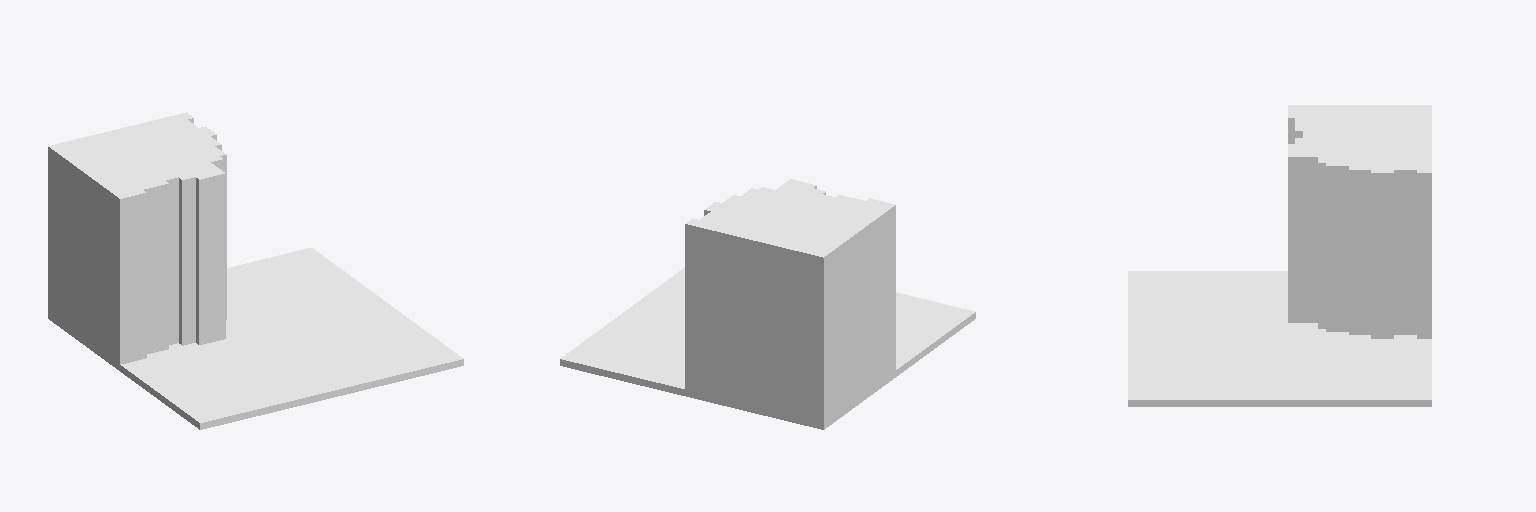
File: tile-quartermountain.obj
3 renders of one model, left to right at view 1: azimuth 30°, elevation 25°; view 2: azimuth 150°, elevation 25°; view 3: azimuth 270°, elevation 25°, orthographic.
Visible parts, largest first — view 1: prototype-quartermountain; view 2: prototype-quartermountain; view 3: prototype-quartermountain.
Part boxes in pixels (x1,y1,x2,y2): prototype-quartermountain: (48,112,463,429); prototype-quartermountain: (560,179,975,429); prototype-quartermountain: (1128,105,1431,406).
Size of the model in its own units: 40 by 25 by 40.